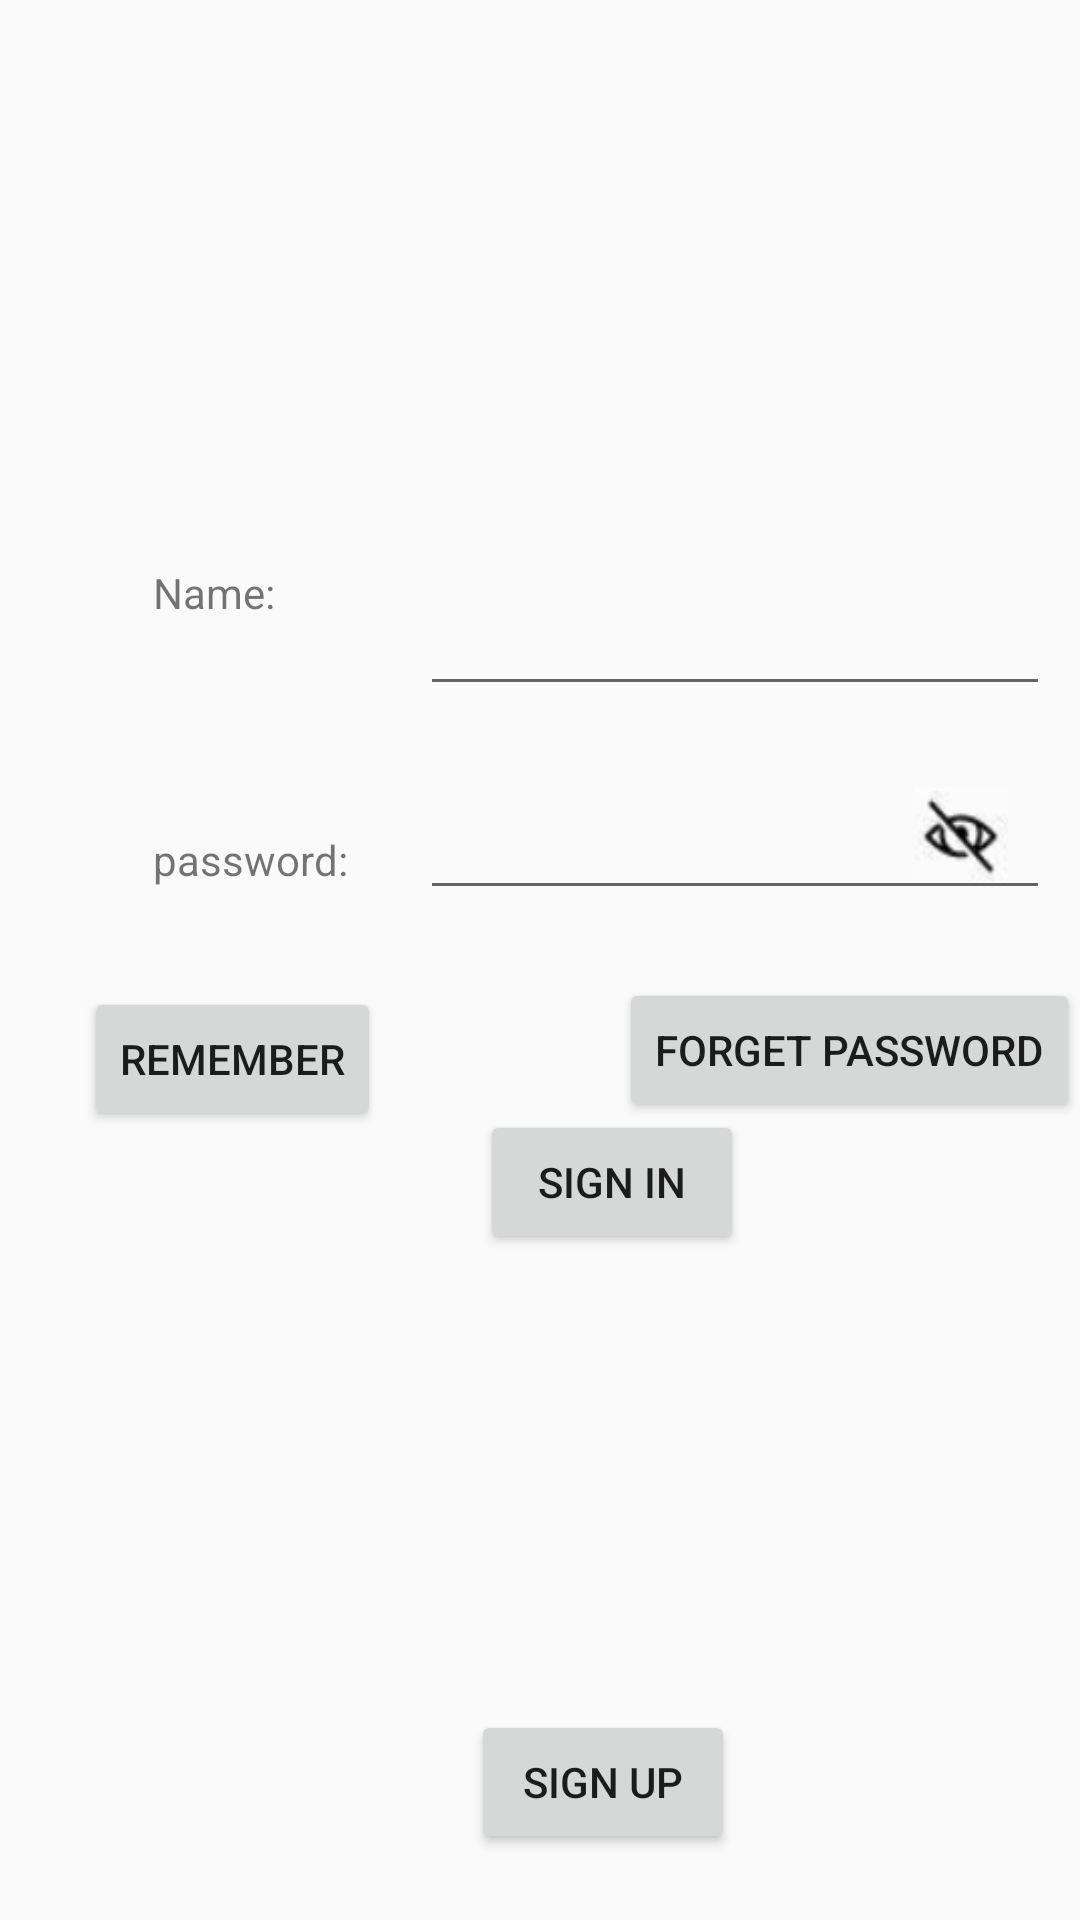

Icons on this 1080w x 1920h Android screen, each with the point to tap as point (x, y):
toggle: point (961, 836)
